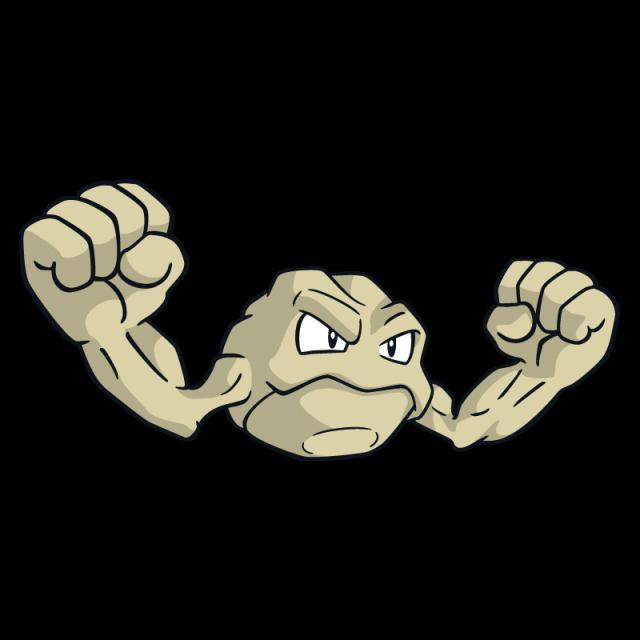Geodude: (25, 187, 615, 454)
